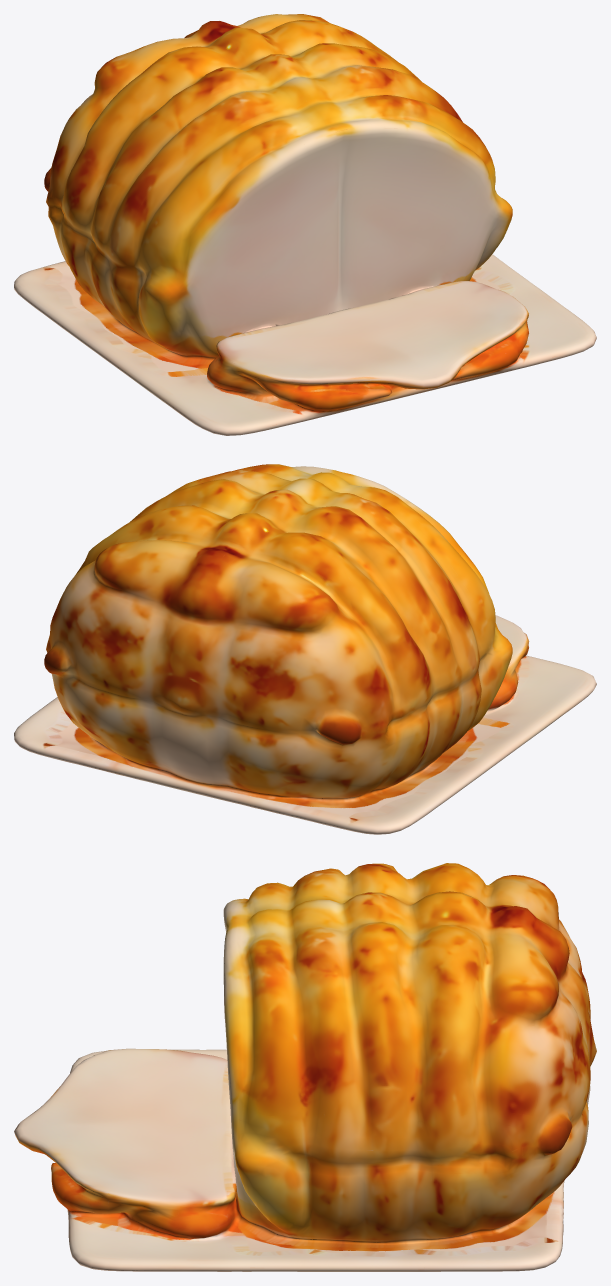
Rendered from hamburguesaModelo.glb.
3 views of the same model, one above another, from view 1: azimuth 30°, elevation 25°; view 2: azimuth 150°, elevation 25°; view 3: azimuth 270°, elevation 25° (orthographic). The views are drawn at different scales.
Parts seen in each view (by area): view 1: model; view 2: model; view 3: model.
Boxes of the visible parts, x1=… form: model: x1=14, y1=14, x2=596, y2=435; model: x1=14, y1=464, x2=596, y2=834; model: x1=14, y1=863, x2=596, y2=1271.
Bounding box in the file's own units: 1.18 × 0.8753 × 1.34.
Materials: 1 (1 with a texture image).
